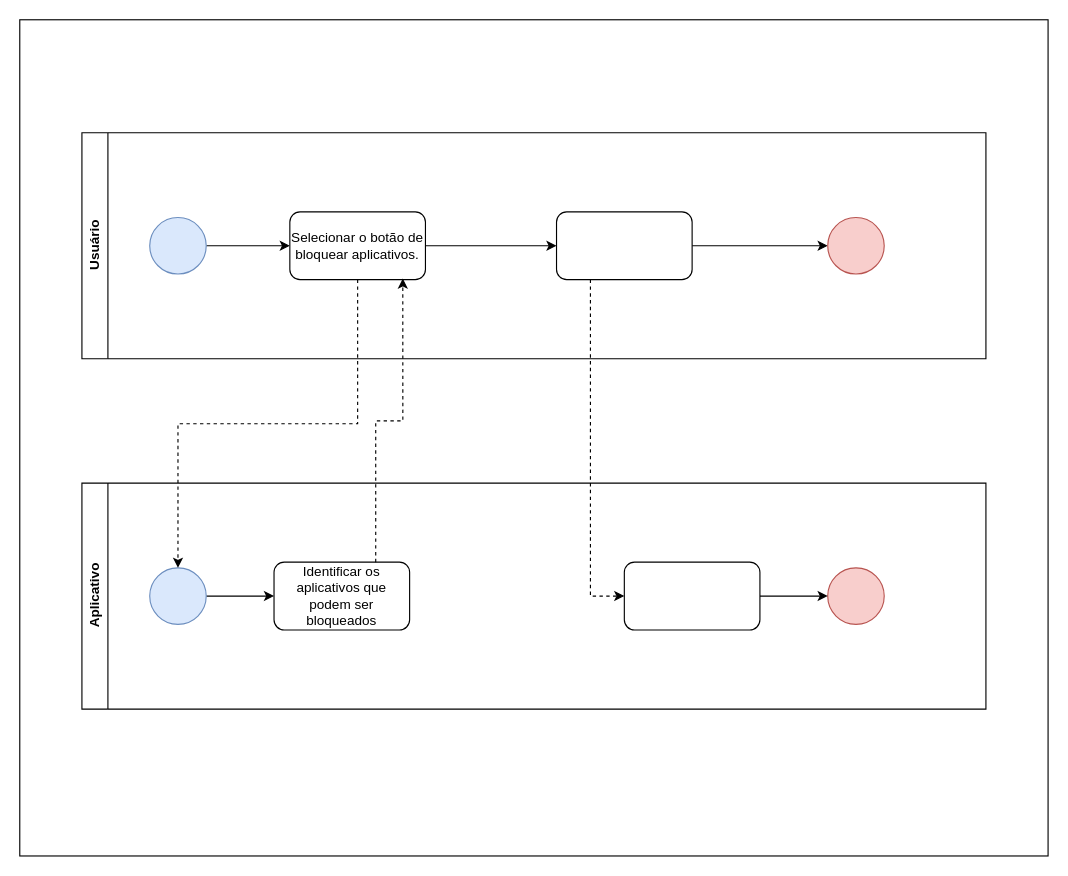
Some shapes in this 1068 by 876 pixel diagram are drawn without their labels. The shapes that lost their labels are listed below. From the top down, each one's centre as x and y in pixels, then its label:
the point at 623,245: Selecionar o aplicativo a ser bloqueado.
the point at 691,595: Bloquear o aplicativo selecionado
